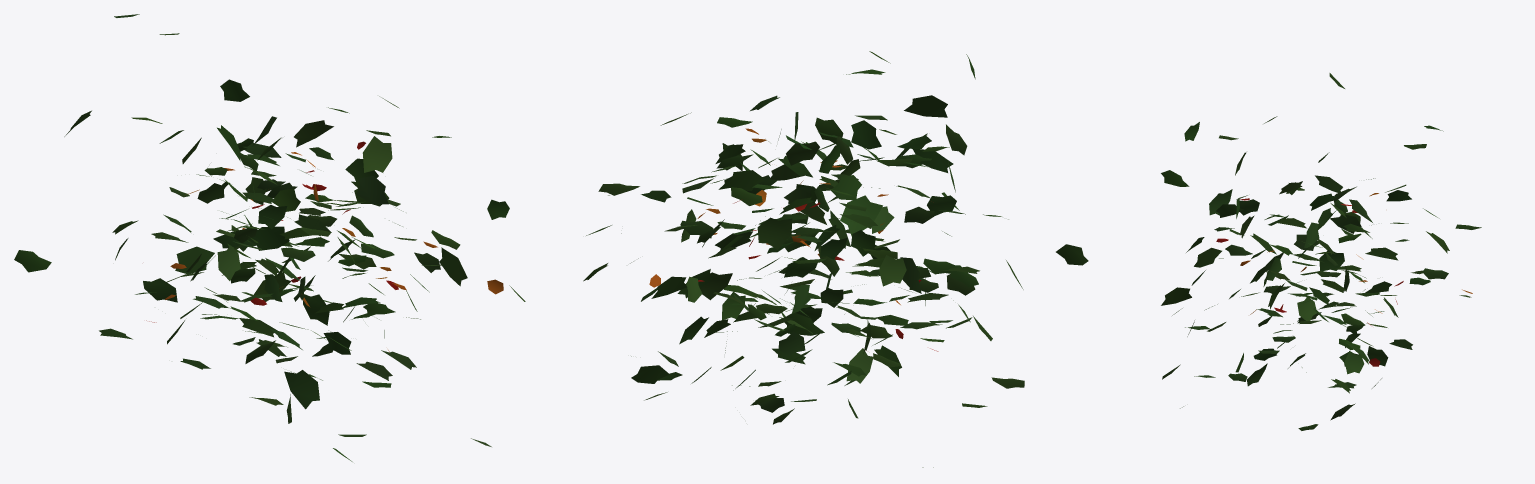
The model's file is SM_Tree_garden_flowers_2.glb.
The picture shows the model from 3 angles, left to right: view 1: azimuth 30°, elevation 25°; view 2: azimuth 150°, elevation 25°; view 3: azimuth 270°, elevation 25°; orthographic projection. The views are drawn at different scales.
Visible parts, largest first — view 1: SM_Tree_garden_flowers_2; view 2: SM_Tree_garden_flowers_2; view 3: SM_Tree_garden_flowers_2.
Boxes of the visible parts, x1,y1,x2,y2 form: SM_Tree_garden_flowers_2: [14, 14, 525, 461]; SM_Tree_garden_flowers_2: [583, 51, 1088, 467]; SM_Tree_garden_flowers_2: [1161, 73, 1481, 430].
Size of the model in its own units: 1.1 by 1.11 by 1.17.
